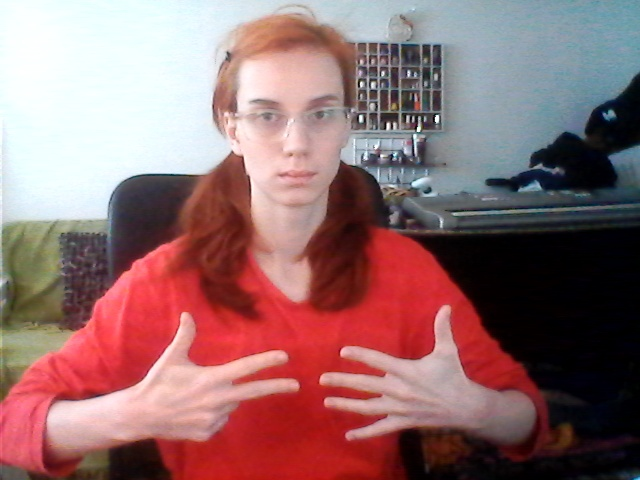osem: (160, 305, 478, 451)
